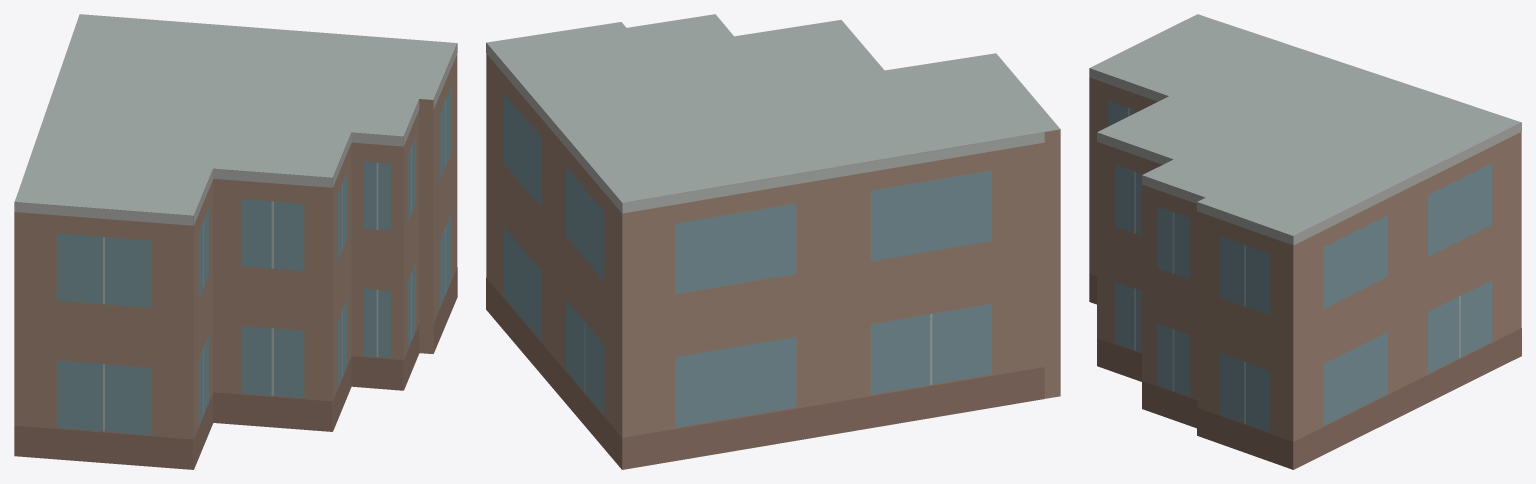
Rendered from survey-upis-32798584.glb.
3 views of the same model, side by side, from view 1: azimuth 30°, elevation 25°; view 2: azimuth 150°, elevation 25°; view 3: azimuth 270°, elevation 25° (orthographic). The views are drawn at different scales.
Parts seen in each view (by area): view 1: survey-upis-32798584.tmp; view 2: survey-upis-32798584.tmp; view 3: survey-upis-32798584.tmp.
Part boxes in pixels (left/top/right/bottom): survey-upis-32798584.tmp: left=14, top=14, right=457, bottom=469; survey-upis-32798584.tmp: left=486, top=14, right=1060, bottom=469; survey-upis-32798584.tmp: left=1089, top=14, right=1521, bottom=469.
Size of the model in its own units: 12.44 by 6.1 by 10.23.
